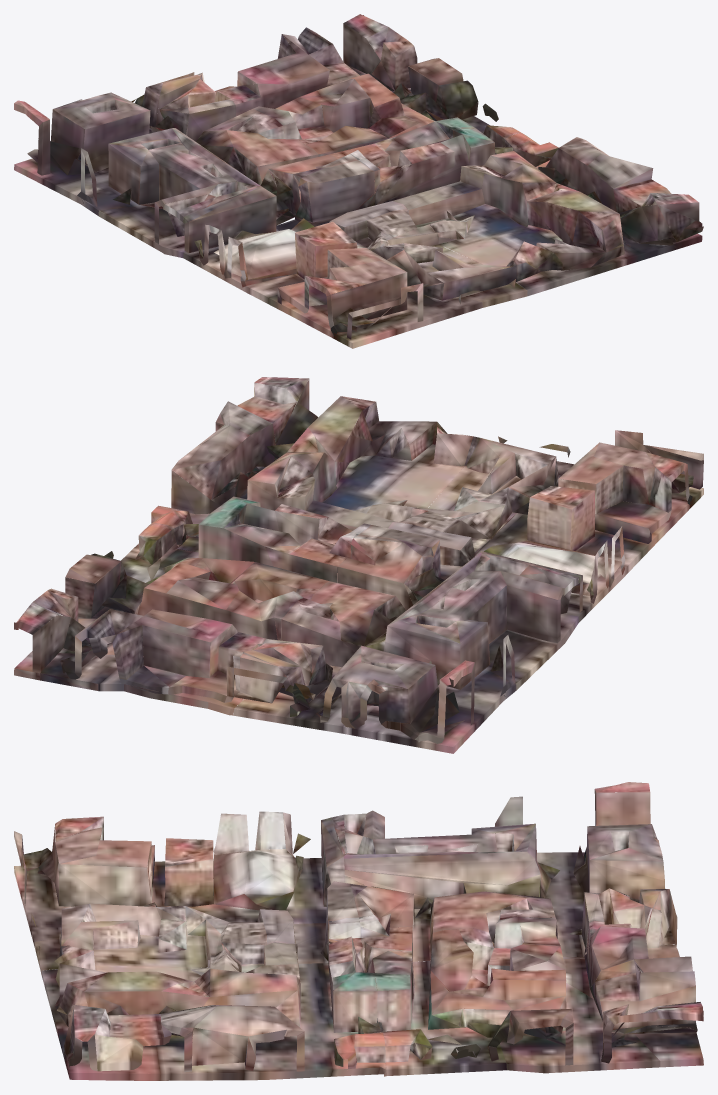
3 views of the same model, one above another, from view 1: azimuth 30°, elevation 25°; view 2: azimuth 150°, elevation 25°; view 3: azimuth 270°, elevation 25° (orthographic). The views are drawn at different scales.
Parts seen in each view (by area): view 1: Mesh_0; view 2: Mesh_0; view 3: Mesh_0.
Boxes of the visible parts, bbox=[...] form: Mesh_0: bbox=[14, 14, 703, 348]; Mesh_0: bbox=[14, 377, 703, 753]; Mesh_0: bbox=[14, 782, 703, 1080].
Size of the model in its own units: 267 by 42.22 by 330.
Materials: 2 (2 with a texture image).
